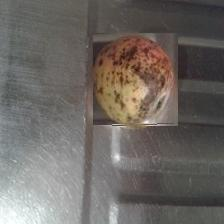Mango Semirotten: (93, 34, 178, 127)
